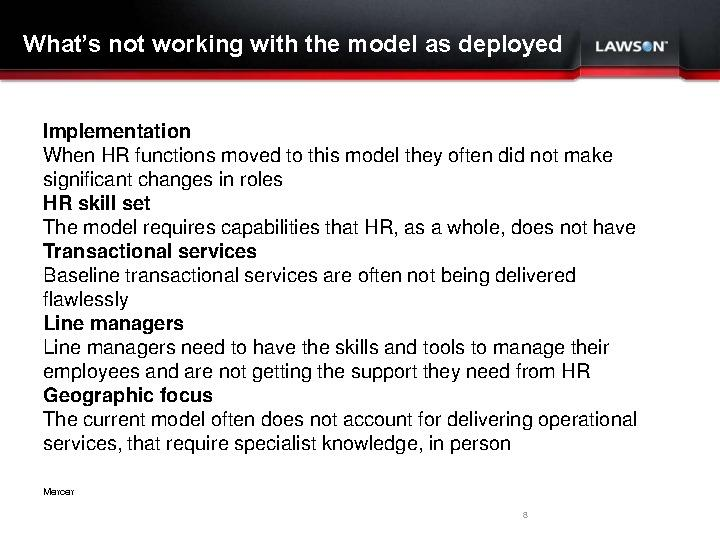paragraph: (23, 114, 669, 467)
subtitle: (35, 479, 100, 514)
title: (17, 22, 580, 63)
